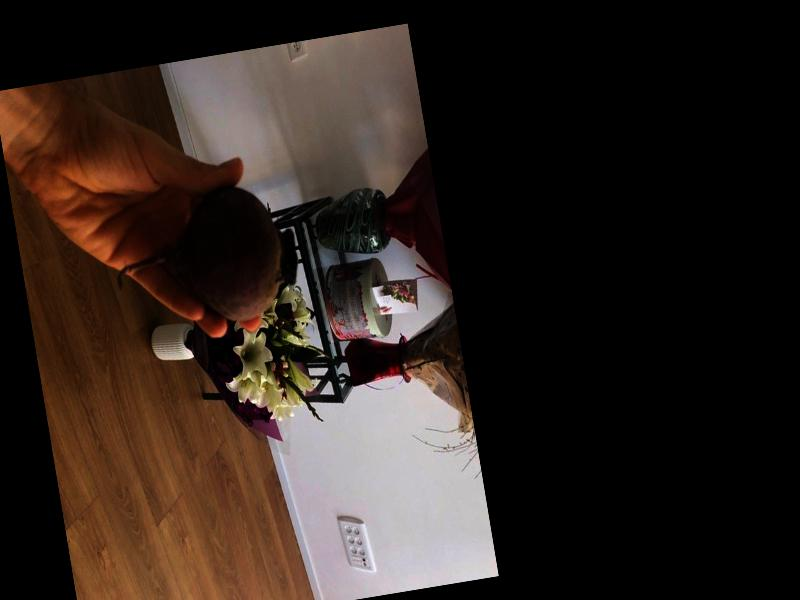Beet: (106, 178, 306, 340)
